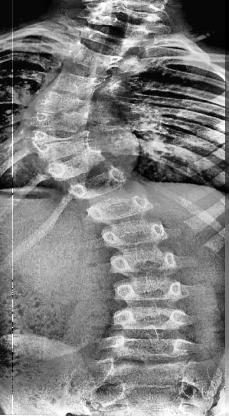Vertebrae: (60, 33, 122, 77), (105, 335, 195, 365), (49, 145, 108, 183), (67, 165, 129, 201), (45, 61, 101, 99), (87, 193, 153, 225), (74, 22, 136, 56), (34, 84, 94, 119), (102, 219, 172, 249), (111, 305, 191, 331), (24, 110, 92, 140), (32, 130, 94, 162), (110, 248, 178, 276), (112, 278, 183, 302)
